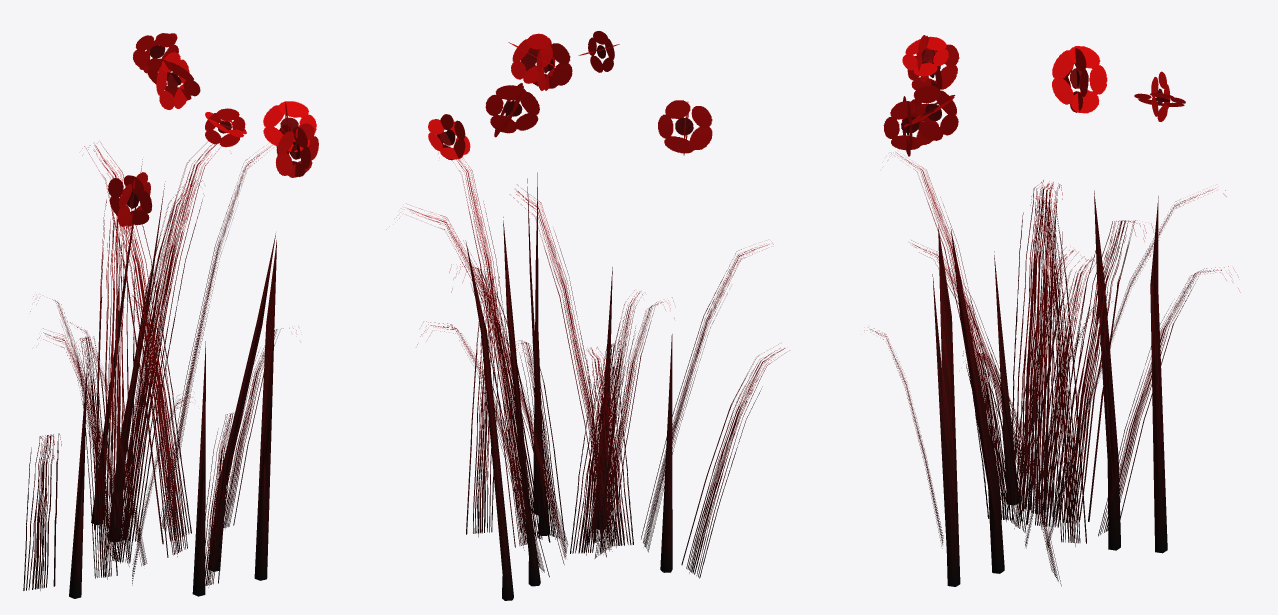
The model's file is plant_savanna_wildflower_a_lod2.glb.
3 renders of one model, left to right at view 1: azimuth 30°, elevation 25°; view 2: azimuth 150°, elevation 25°; view 3: azimuth 270°, elevation 25°, orthographic. The views are drawn at different scales.
Visible parts, largest first — view 1: plant_savanna_wildflower_a; view 2: plant_savanna_wildflower_a; view 3: plant_savanna_wildflower_a.
Part boxes in pixels (x1,y1,x2,y2): plant_savanna_wildflower_a: (23,33,318,598); plant_savanna_wildflower_a: (386,31,789,600); plant_savanna_wildflower_a: (864,35,1240,586).
Bounding box in the file's own units: 0.3533 × 0.5101 × 0.3571.
1 material, 1 textured.
